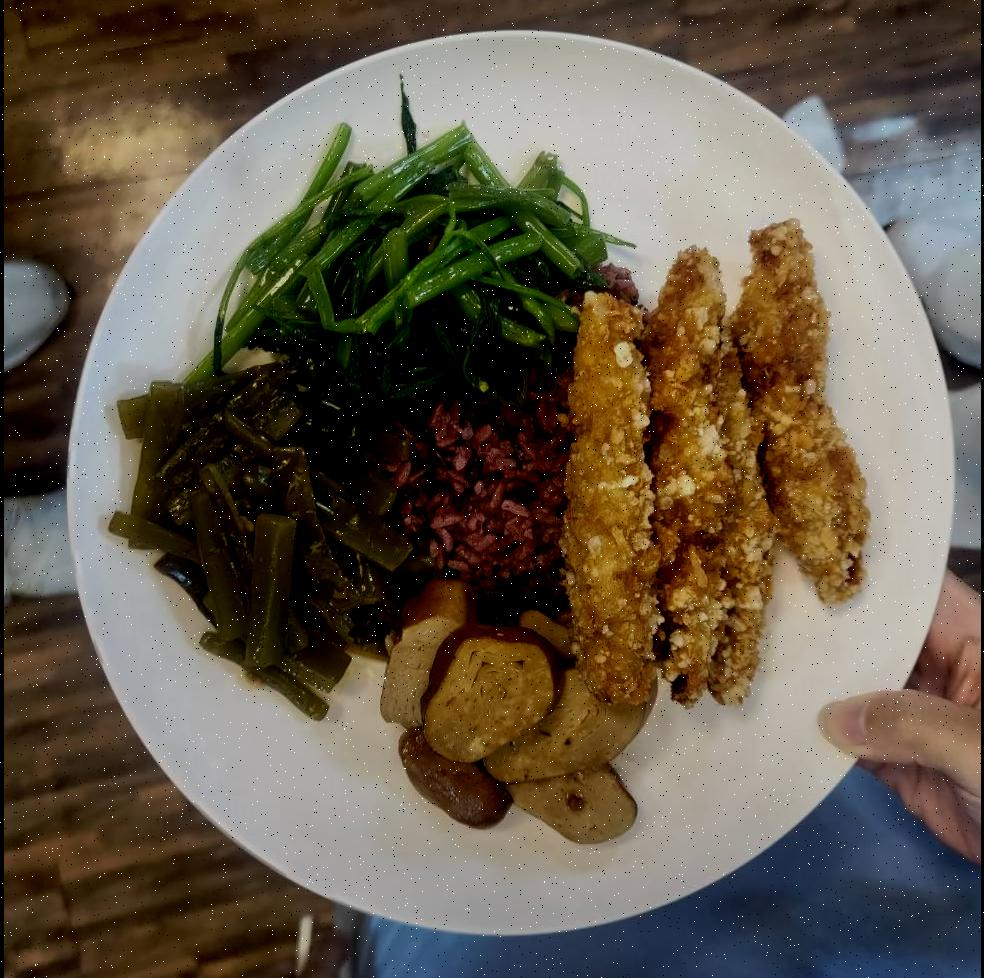fried spanish mackerel: (556, 218, 878, 716)
plate: (52, 19, 964, 938)
purple rice: (371, 260, 659, 644)
side dish: (214, 133, 598, 408), (114, 362, 408, 700), (382, 580, 663, 850)
